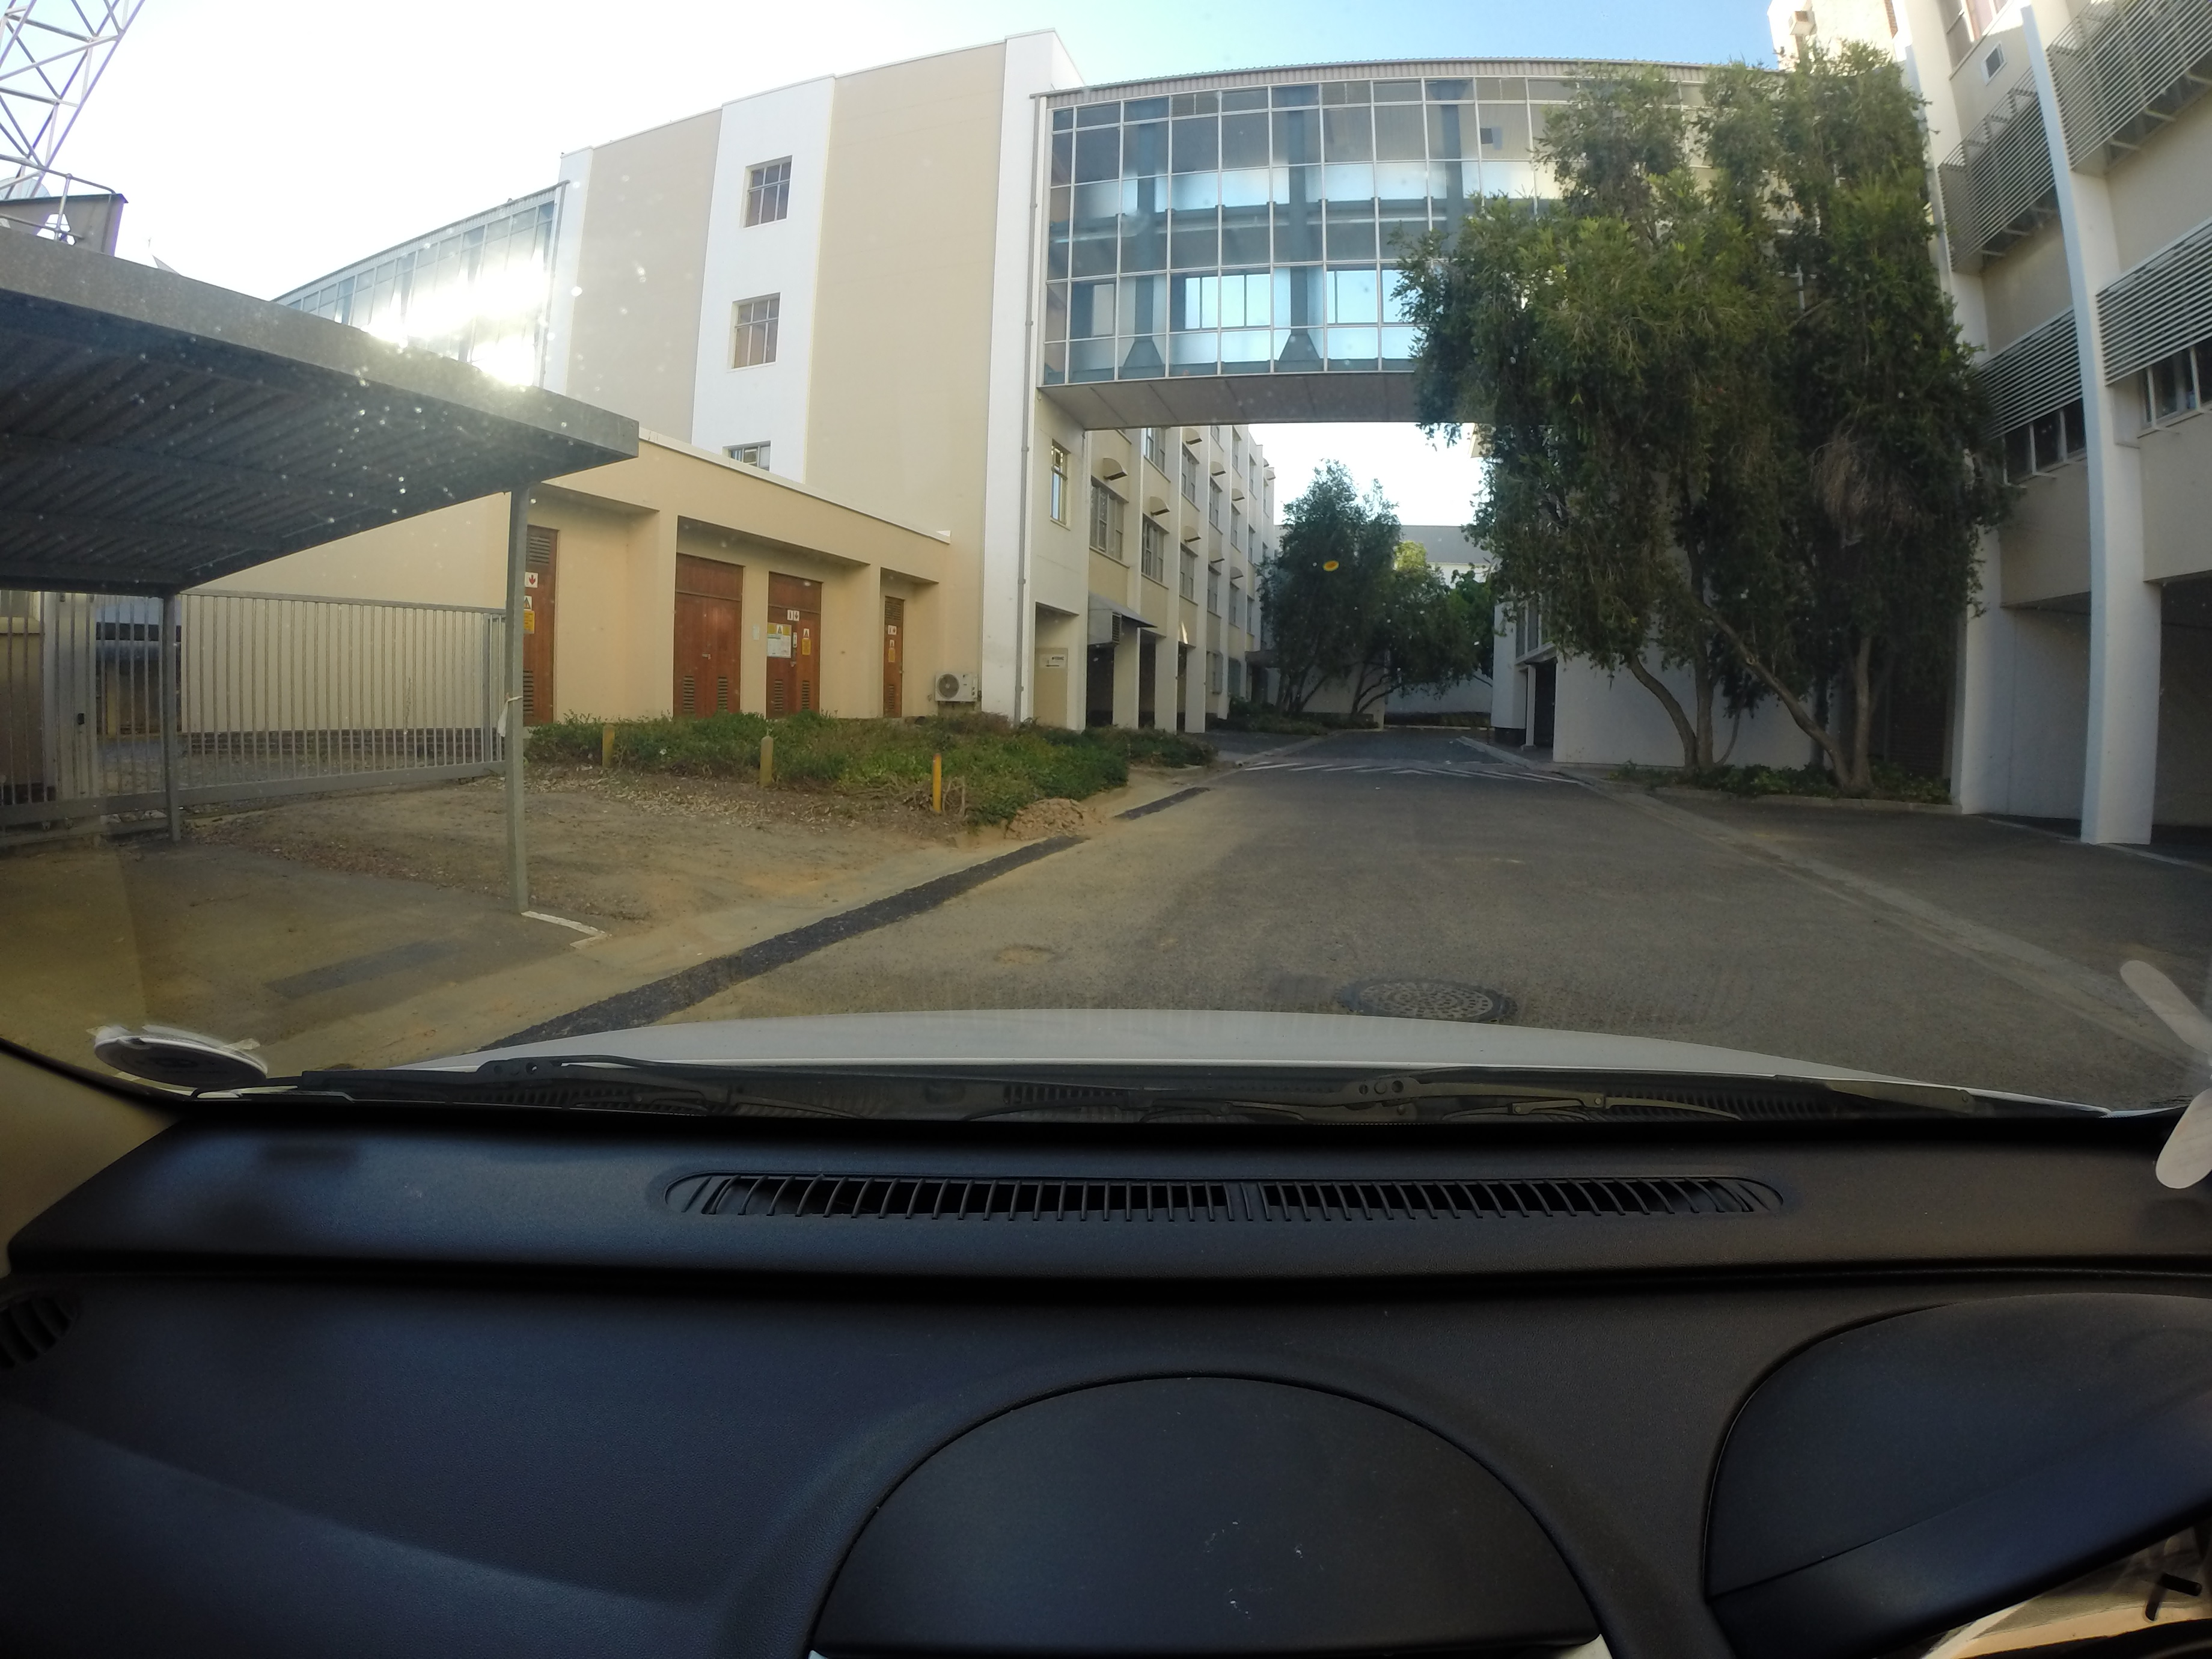pothole: (967, 939, 1075, 967)
